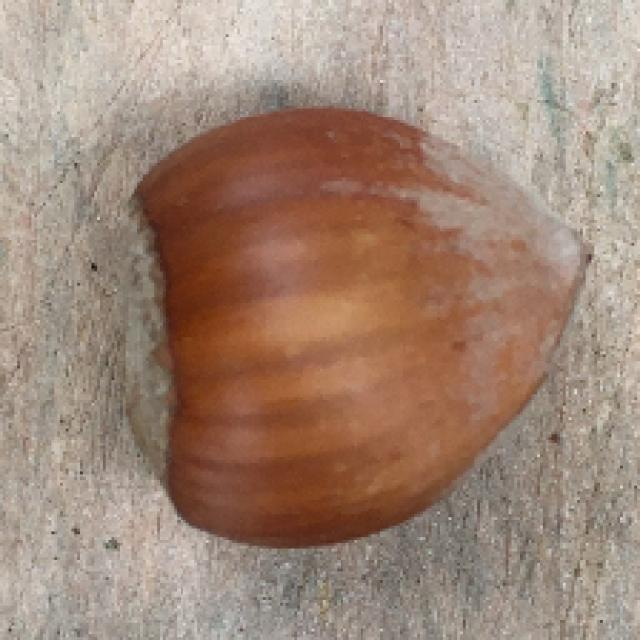qualityHazelnut: (105, 100, 601, 551)
